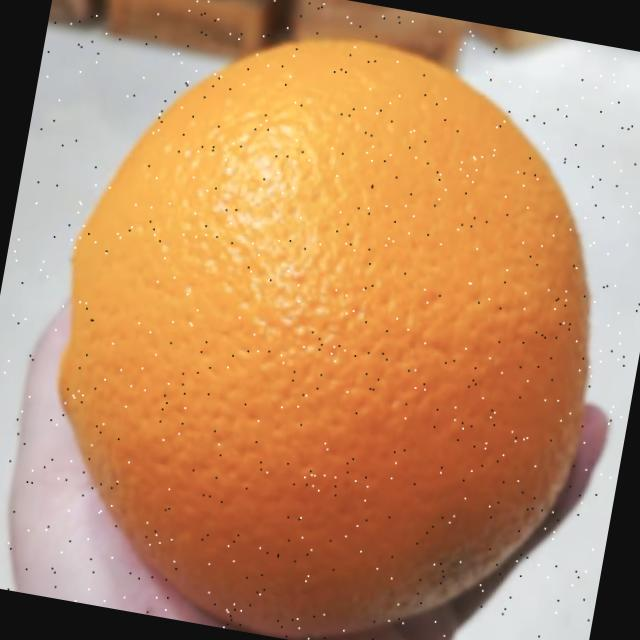pineapple: (24, 0, 639, 640)
